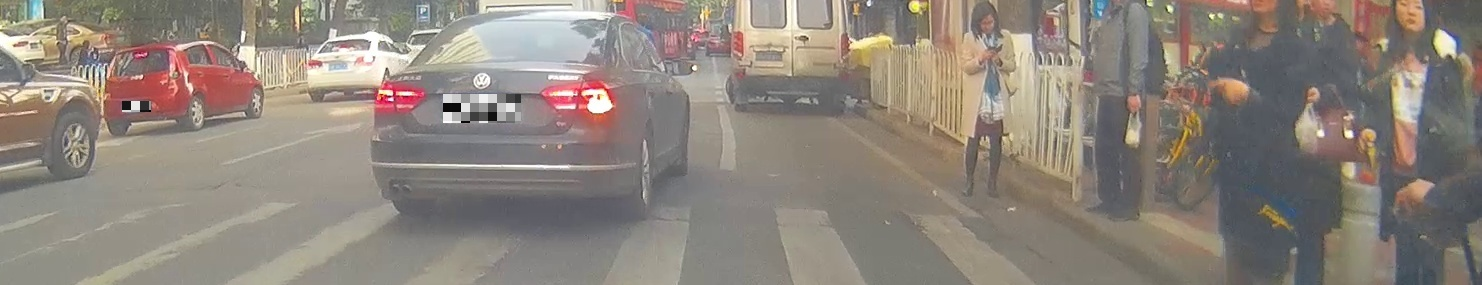L_light: (373, 81, 427, 111), (105, 67, 113, 79)
R_light: (538, 79, 615, 115), (168, 64, 180, 79)
T_light: (471, 57, 512, 65), (132, 52, 148, 58)
day-brake: (102, 44, 184, 137)
day-right: (371, 11, 616, 216)
plate_1: (122, 101, 151, 112)
plate_2: (443, 94, 521, 123)
